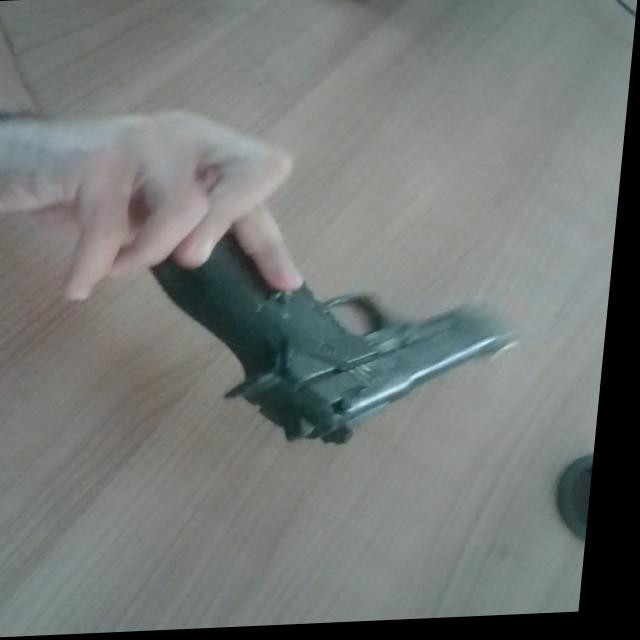handgun: (129, 153, 626, 479)
